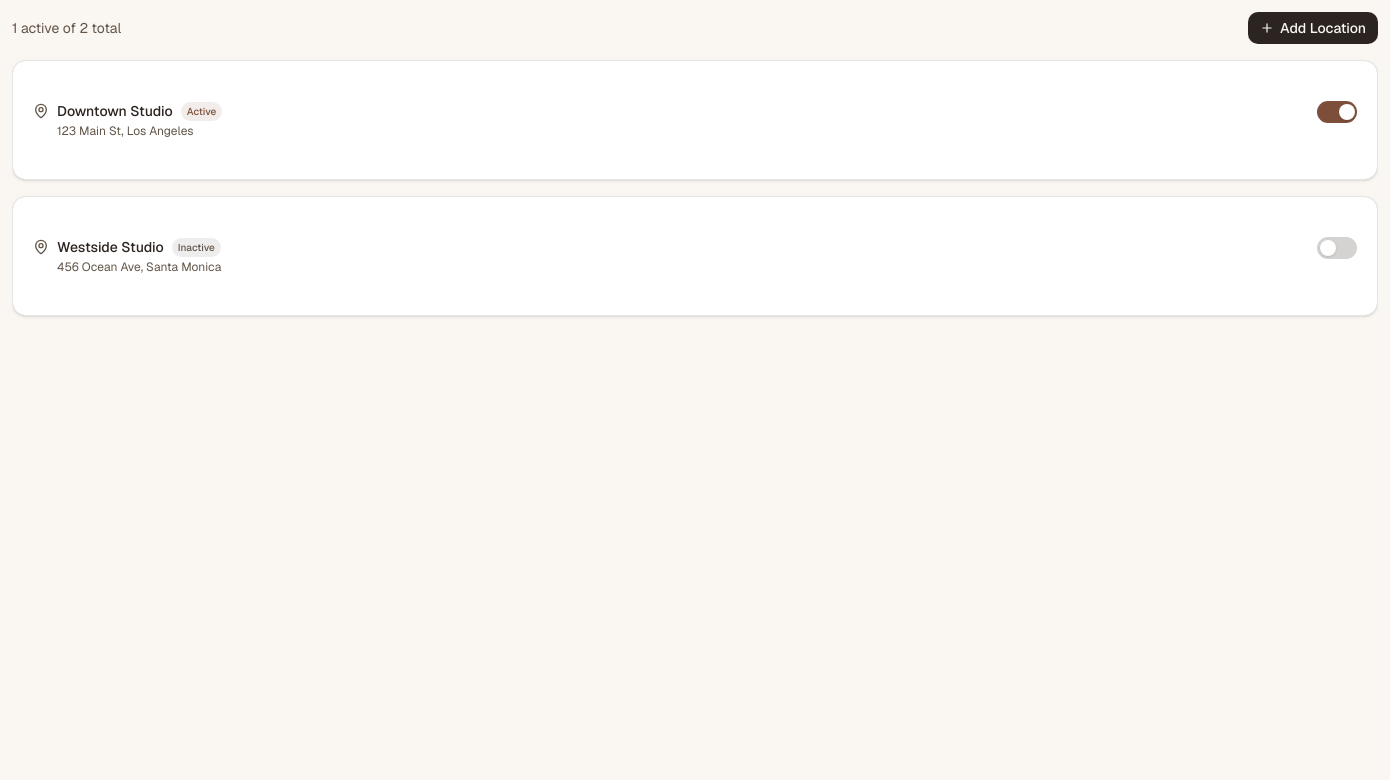
Scenario: LocationsTab › inline editing › collapses edit form when clicked again
Click the text "Downtown Studio" at (115, 111), box left=57, top=101, right=173, bottom=121
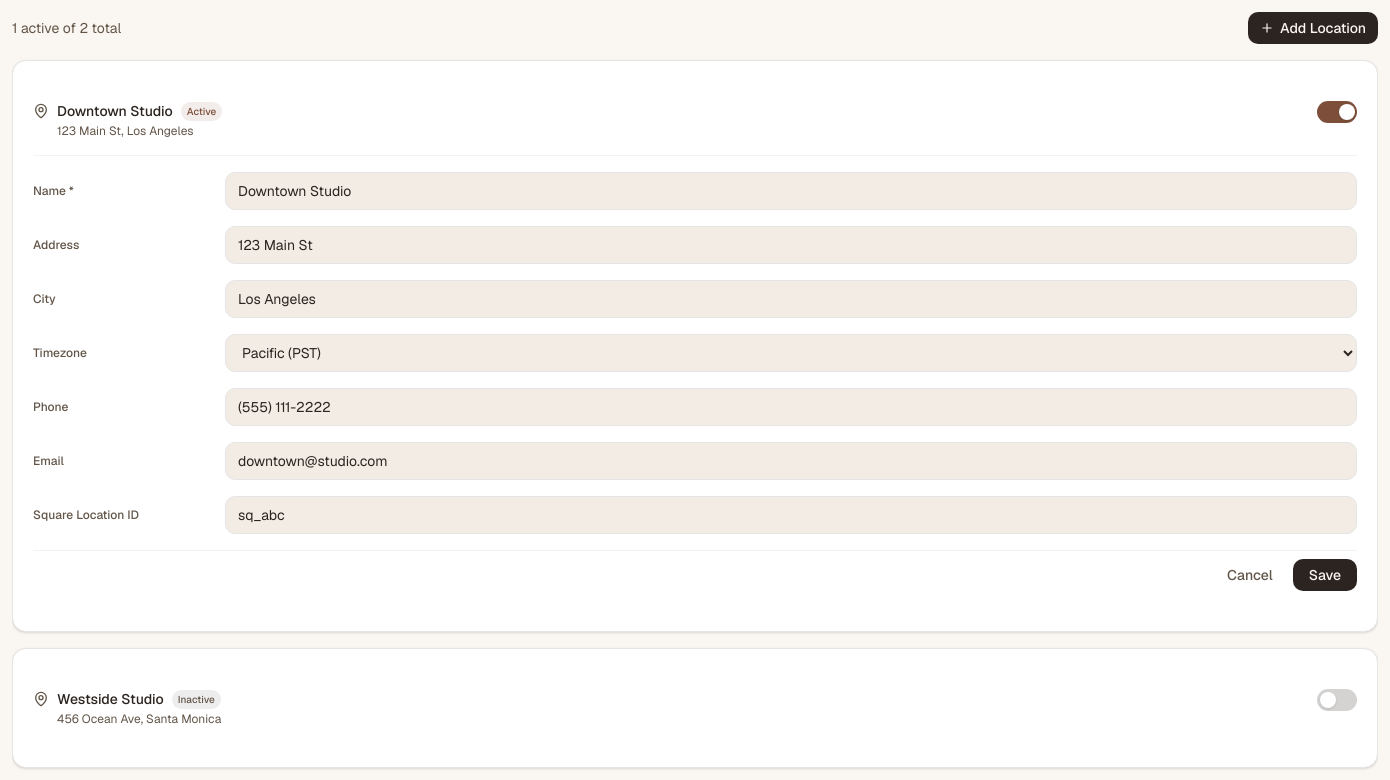
Check: the button "Save" is shown, box left=1293, top=559, right=1357, bottom=591
Click the text "Downtown Studio" at (115, 111), box left=57, top=101, right=173, bottom=121
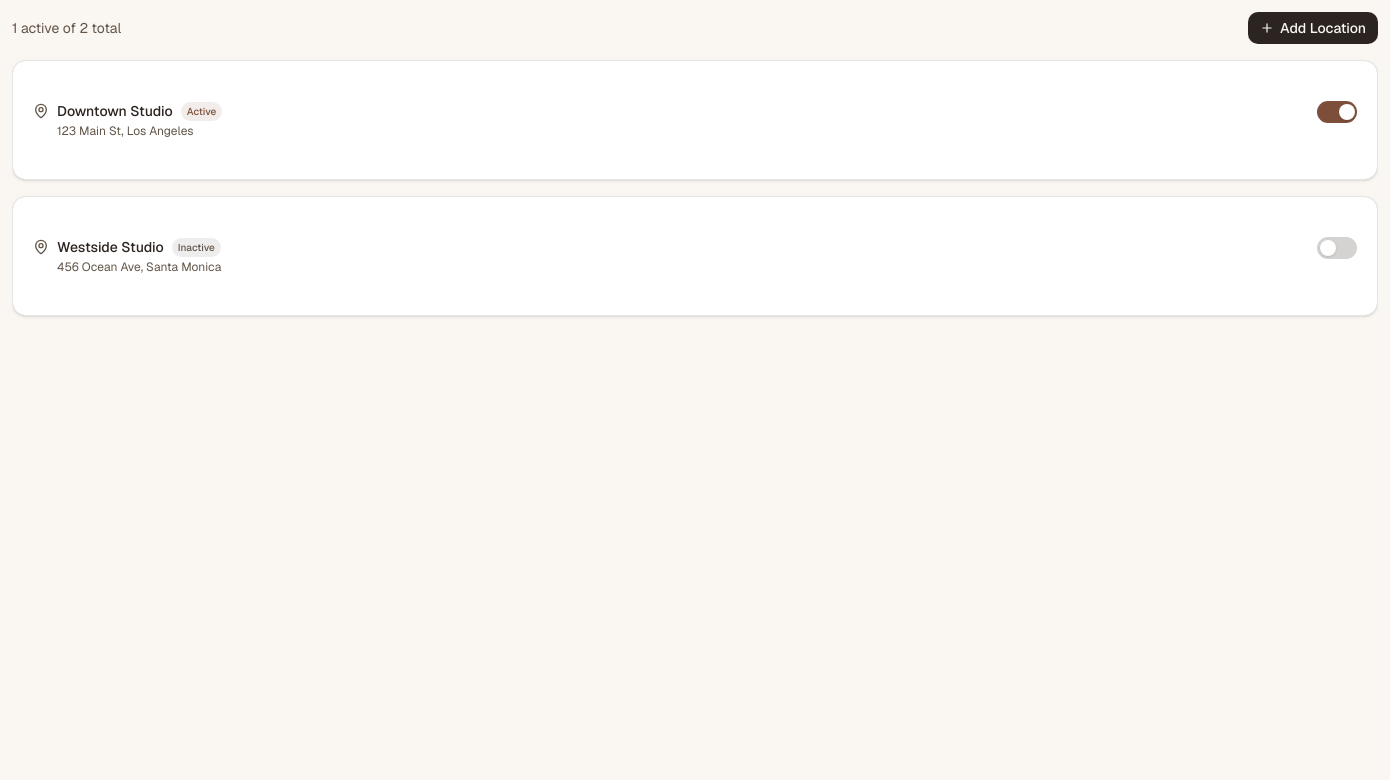
Check: the button "Save" is gone
